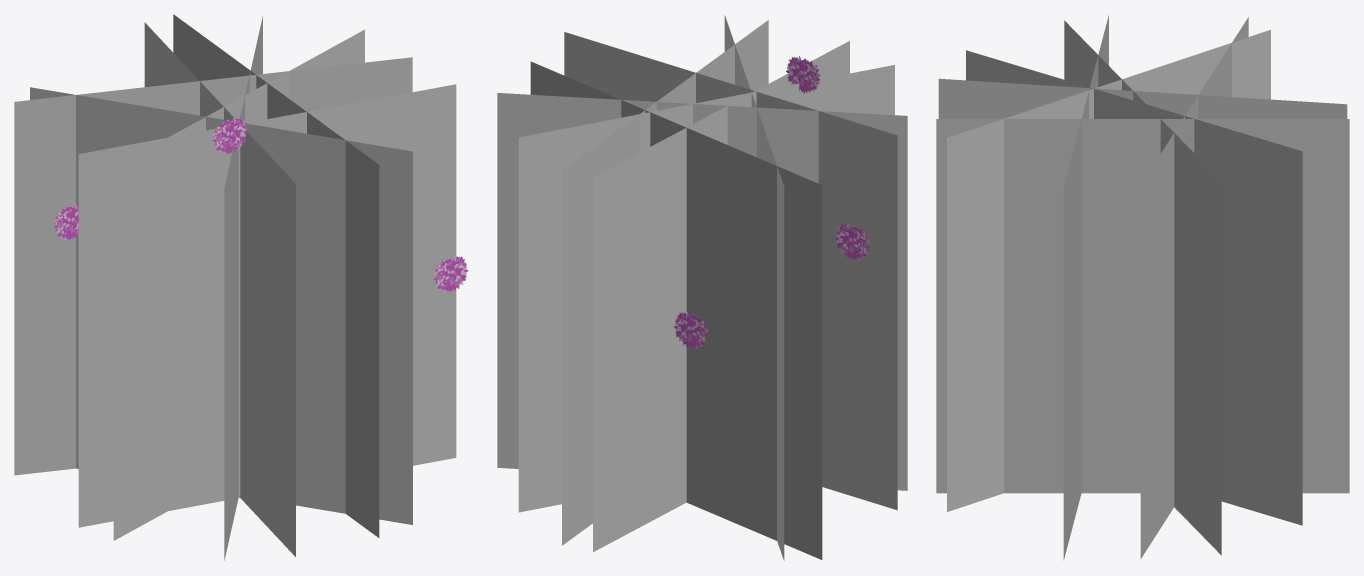
File: onion.fbx
The picture shows the model from 3 angles, left to right: view 1: azimuth 30°, elevation 25°; view 2: azimuth 150°, elevation 25°; view 3: azimuth 270°, elevation 25°; orthographic projection.
Parts seen in each view (by area): view 1: onion_leaves, onion_flowers; view 2: onion_leaves, onion_flowers; view 3: onion_leaves.
Part boxes in pixels (bbox=[...]): onion_leaves: bbox=[14, 14, 456, 560]; onion_flowers: bbox=[54, 117, 468, 292]; onion_leaves: bbox=[497, 15, 907, 560]; onion_flowers: bbox=[674, 56, 869, 349]; onion_leaves: bbox=[936, 15, 1349, 560].
Size of the model in its own units: 0.9939 by 1.07 by 1.
